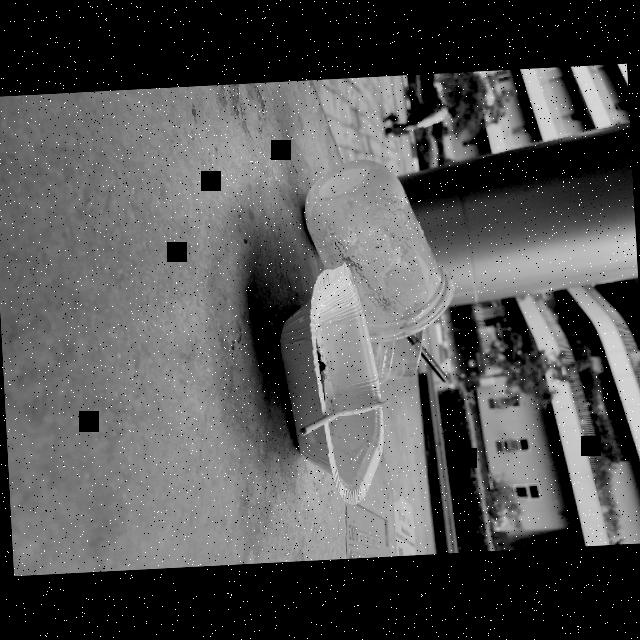cardboard_bowl: (262, 255, 394, 512)
plastic_cup: (298, 155, 451, 355)
stick: (291, 398, 394, 439)
straw: (405, 334, 454, 396)
